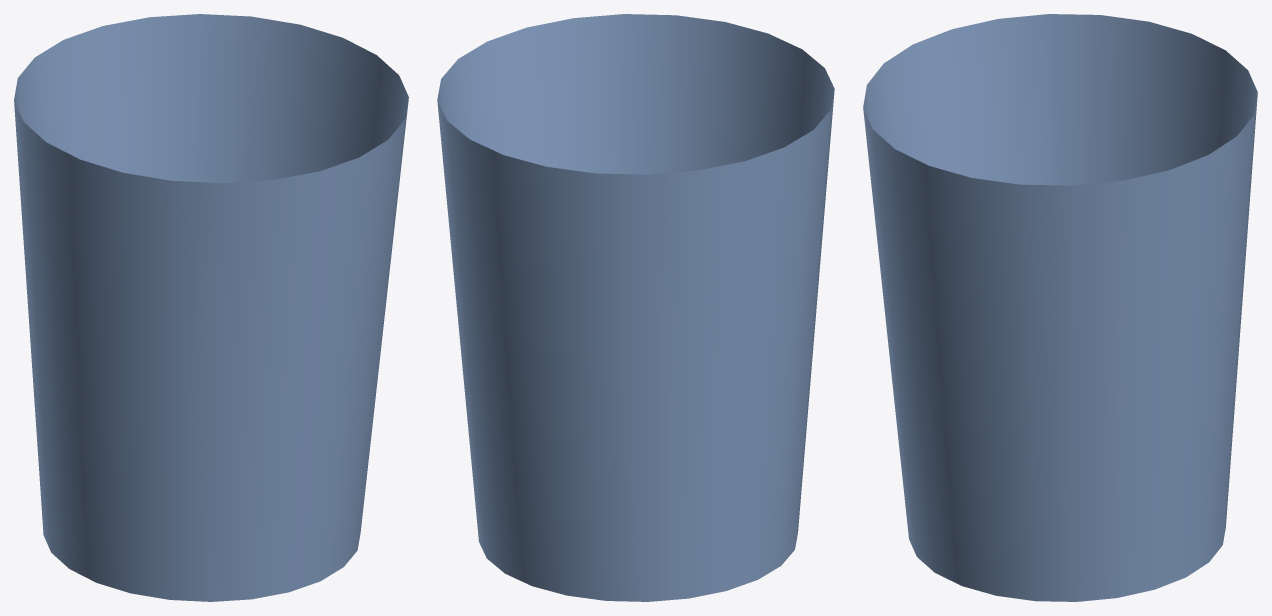
The model's file is cup_glass.dae.
3 views of the same model, side by side, from view 1: azimuth 30°, elevation 25°; view 2: azimuth 150°, elevation 25°; view 3: azimuth 270°, elevation 25° (orthographic).
Parts seen in each view (by area): view 1: group_0; view 2: group_0; view 3: group_0.
Part boxes in pixels (left/top/right/bottom): group_0: left=14, top=14, right=408, bottom=601; group_0: left=437, top=14, right=834, bottom=601; group_0: left=863, top=14, right=1257, bottom=601.
Size of the model in its own units: 0.0766 by 0.0766 by 0.0948.
